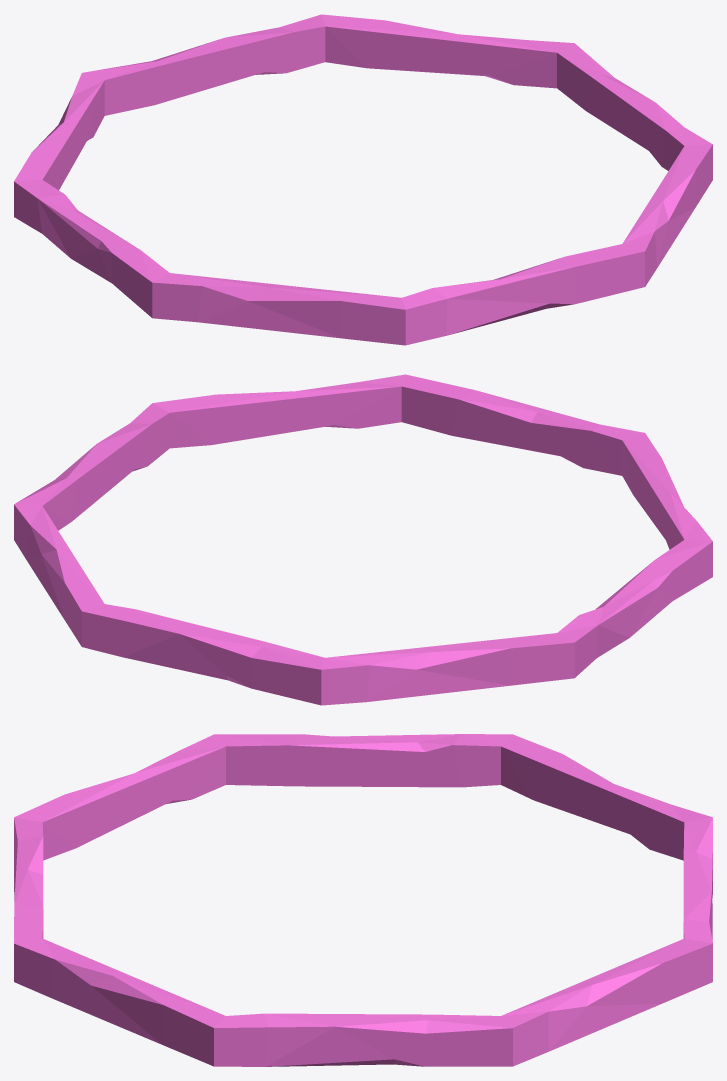
Rendered from SM_Tower_Round_7m_Trim_Wood_Fantasy.fbx.
3 views of the same model, one above another, from view 1: azimuth 30°, elevation 25°; view 2: azimuth 150°, elevation 25°; view 3: azimuth 270°, elevation 25° (orthographic). The views are drawn at different scales.
Parts seen in each view (by area): view 1: SM_Tower_Round_7m_Trim_Wood_Fantasy; view 2: SM_Tower_Round_7m_Trim_Wood_Fantasy; view 3: SM_Tower_Round_7m_Trim_Wood_Fantasy.
Part boxes in pixels (bbox=[...]): SM_Tower_Round_7m_Trim_Wood_Fantasy: bbox=[14, 14, 712, 345]; SM_Tower_Round_7m_Trim_Wood_Fantasy: bbox=[14, 374, 712, 705]; SM_Tower_Round_7m_Trim_Wood_Fantasy: bbox=[14, 734, 712, 1066].
Size of the model in its own units: 7.63 by 0.5366 by 7.63.
